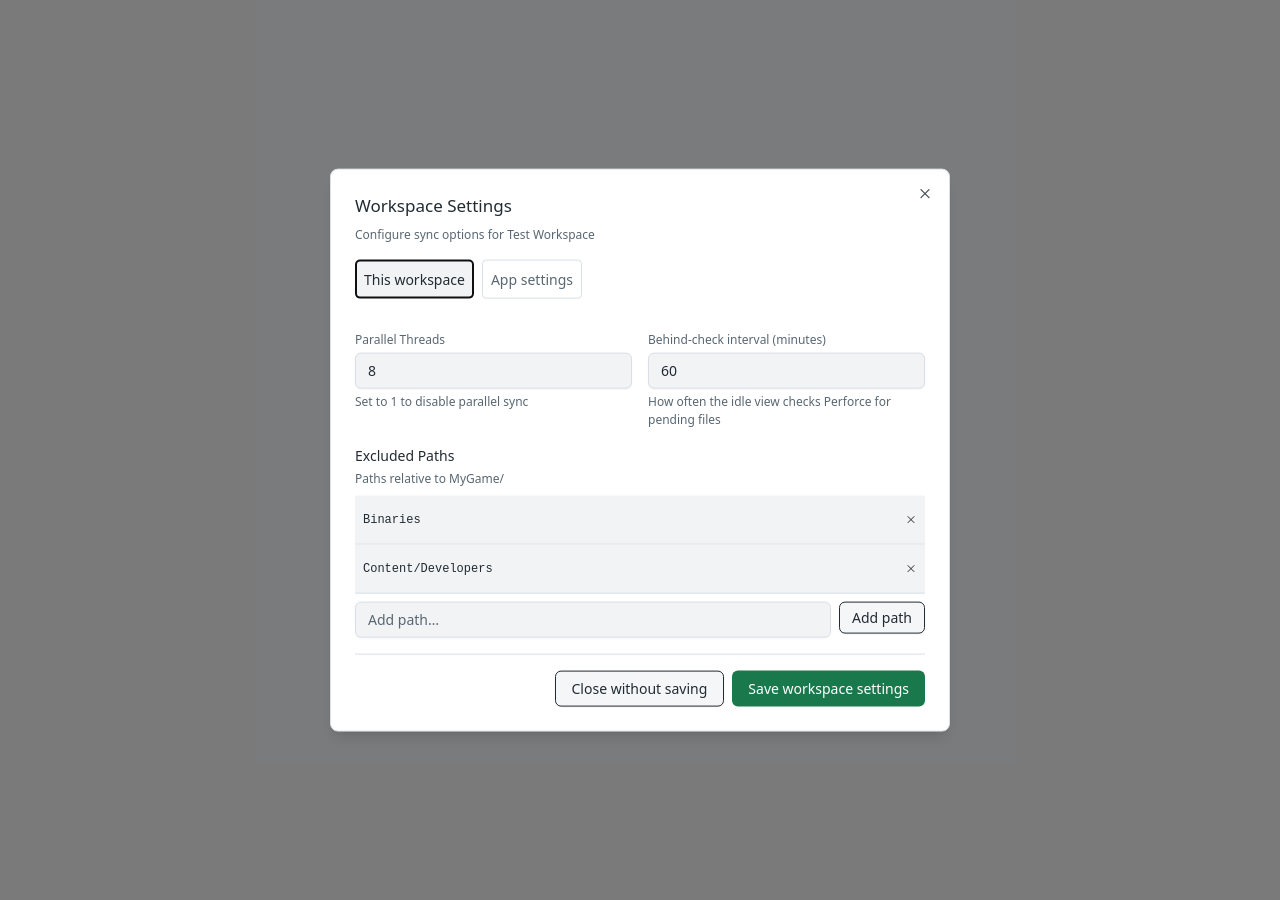
SettingsDialog — launch at Windows login › reverts the checkbox and shows an err status when enable rejects
Click the button "App settings". click: (532, 279)
box: [482,259,582,298]
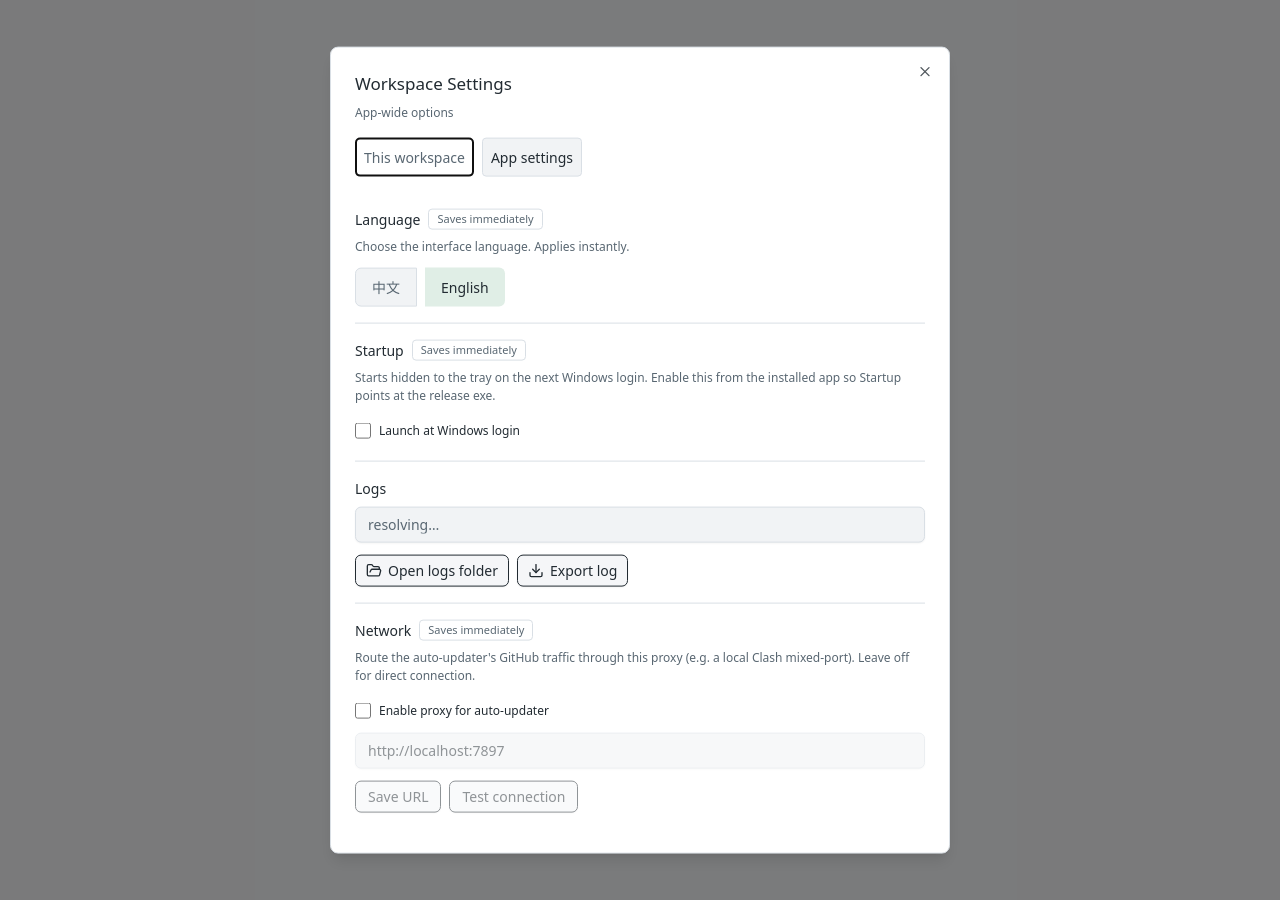
Expected: the checkbox labelled "Launch at Windows login" is enabled
Click the checkbox labelled "Launch at Windows login". click: (363, 430)
box: [355,422,371,438]
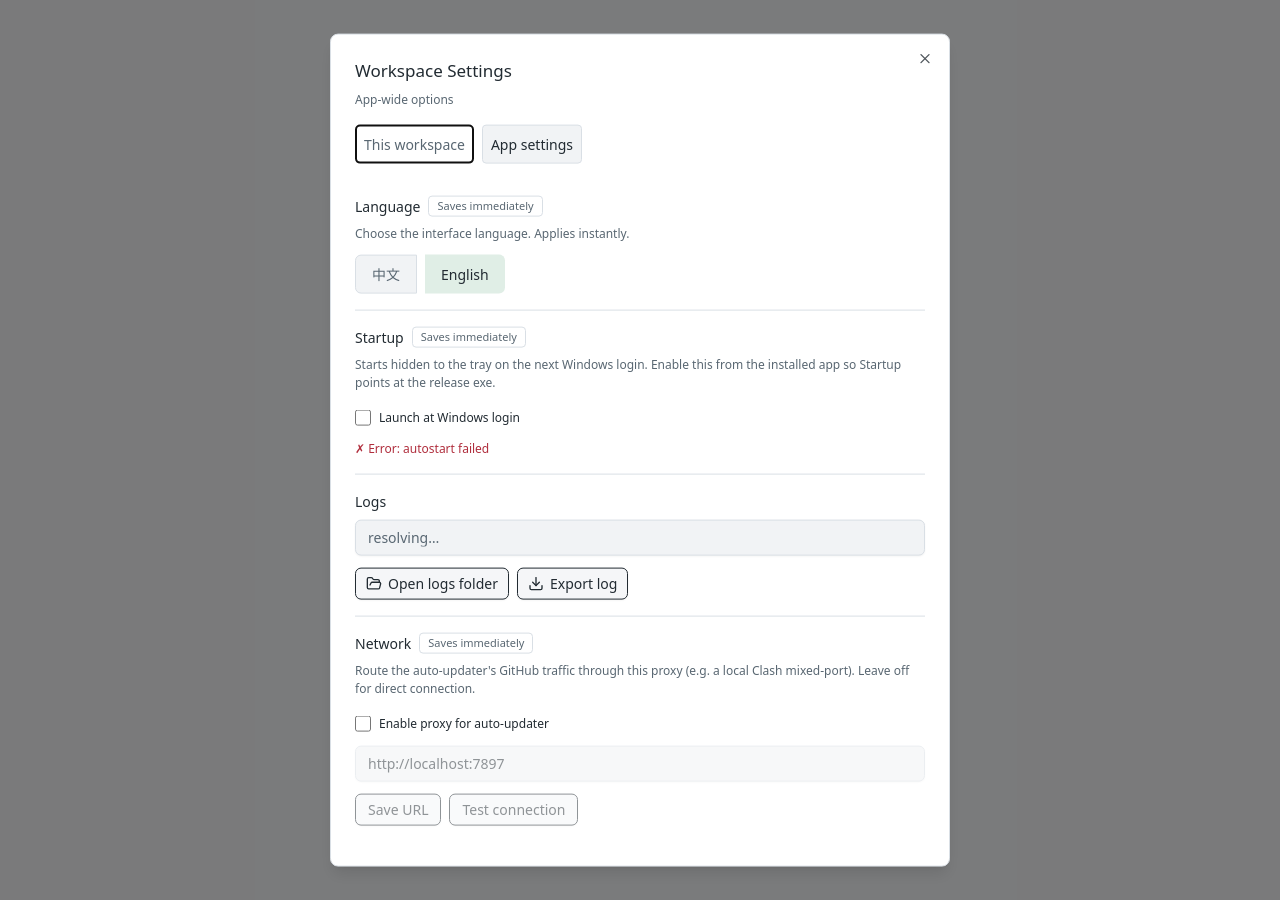
Expected: the checkbox labelled "Launch at Windows login" is not checked, [355,409,371,425]
Expected: the text "✗ Error: autostart failed" is shown, [355,439,489,456]
